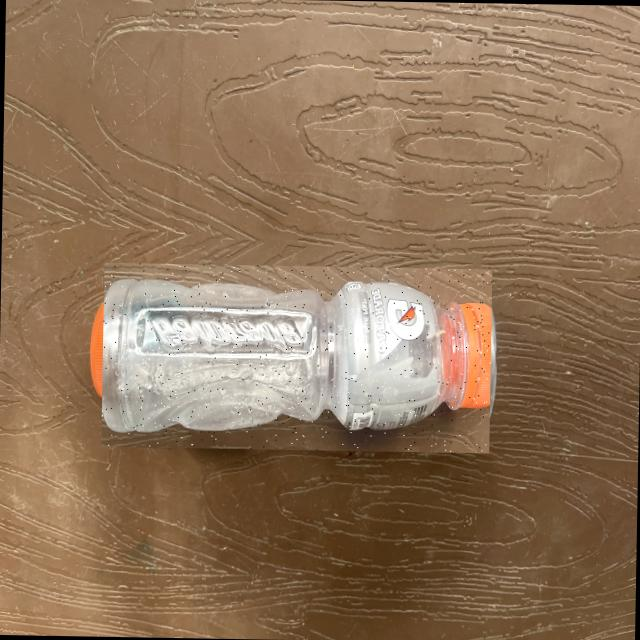REJECT: (101, 262, 492, 453)
